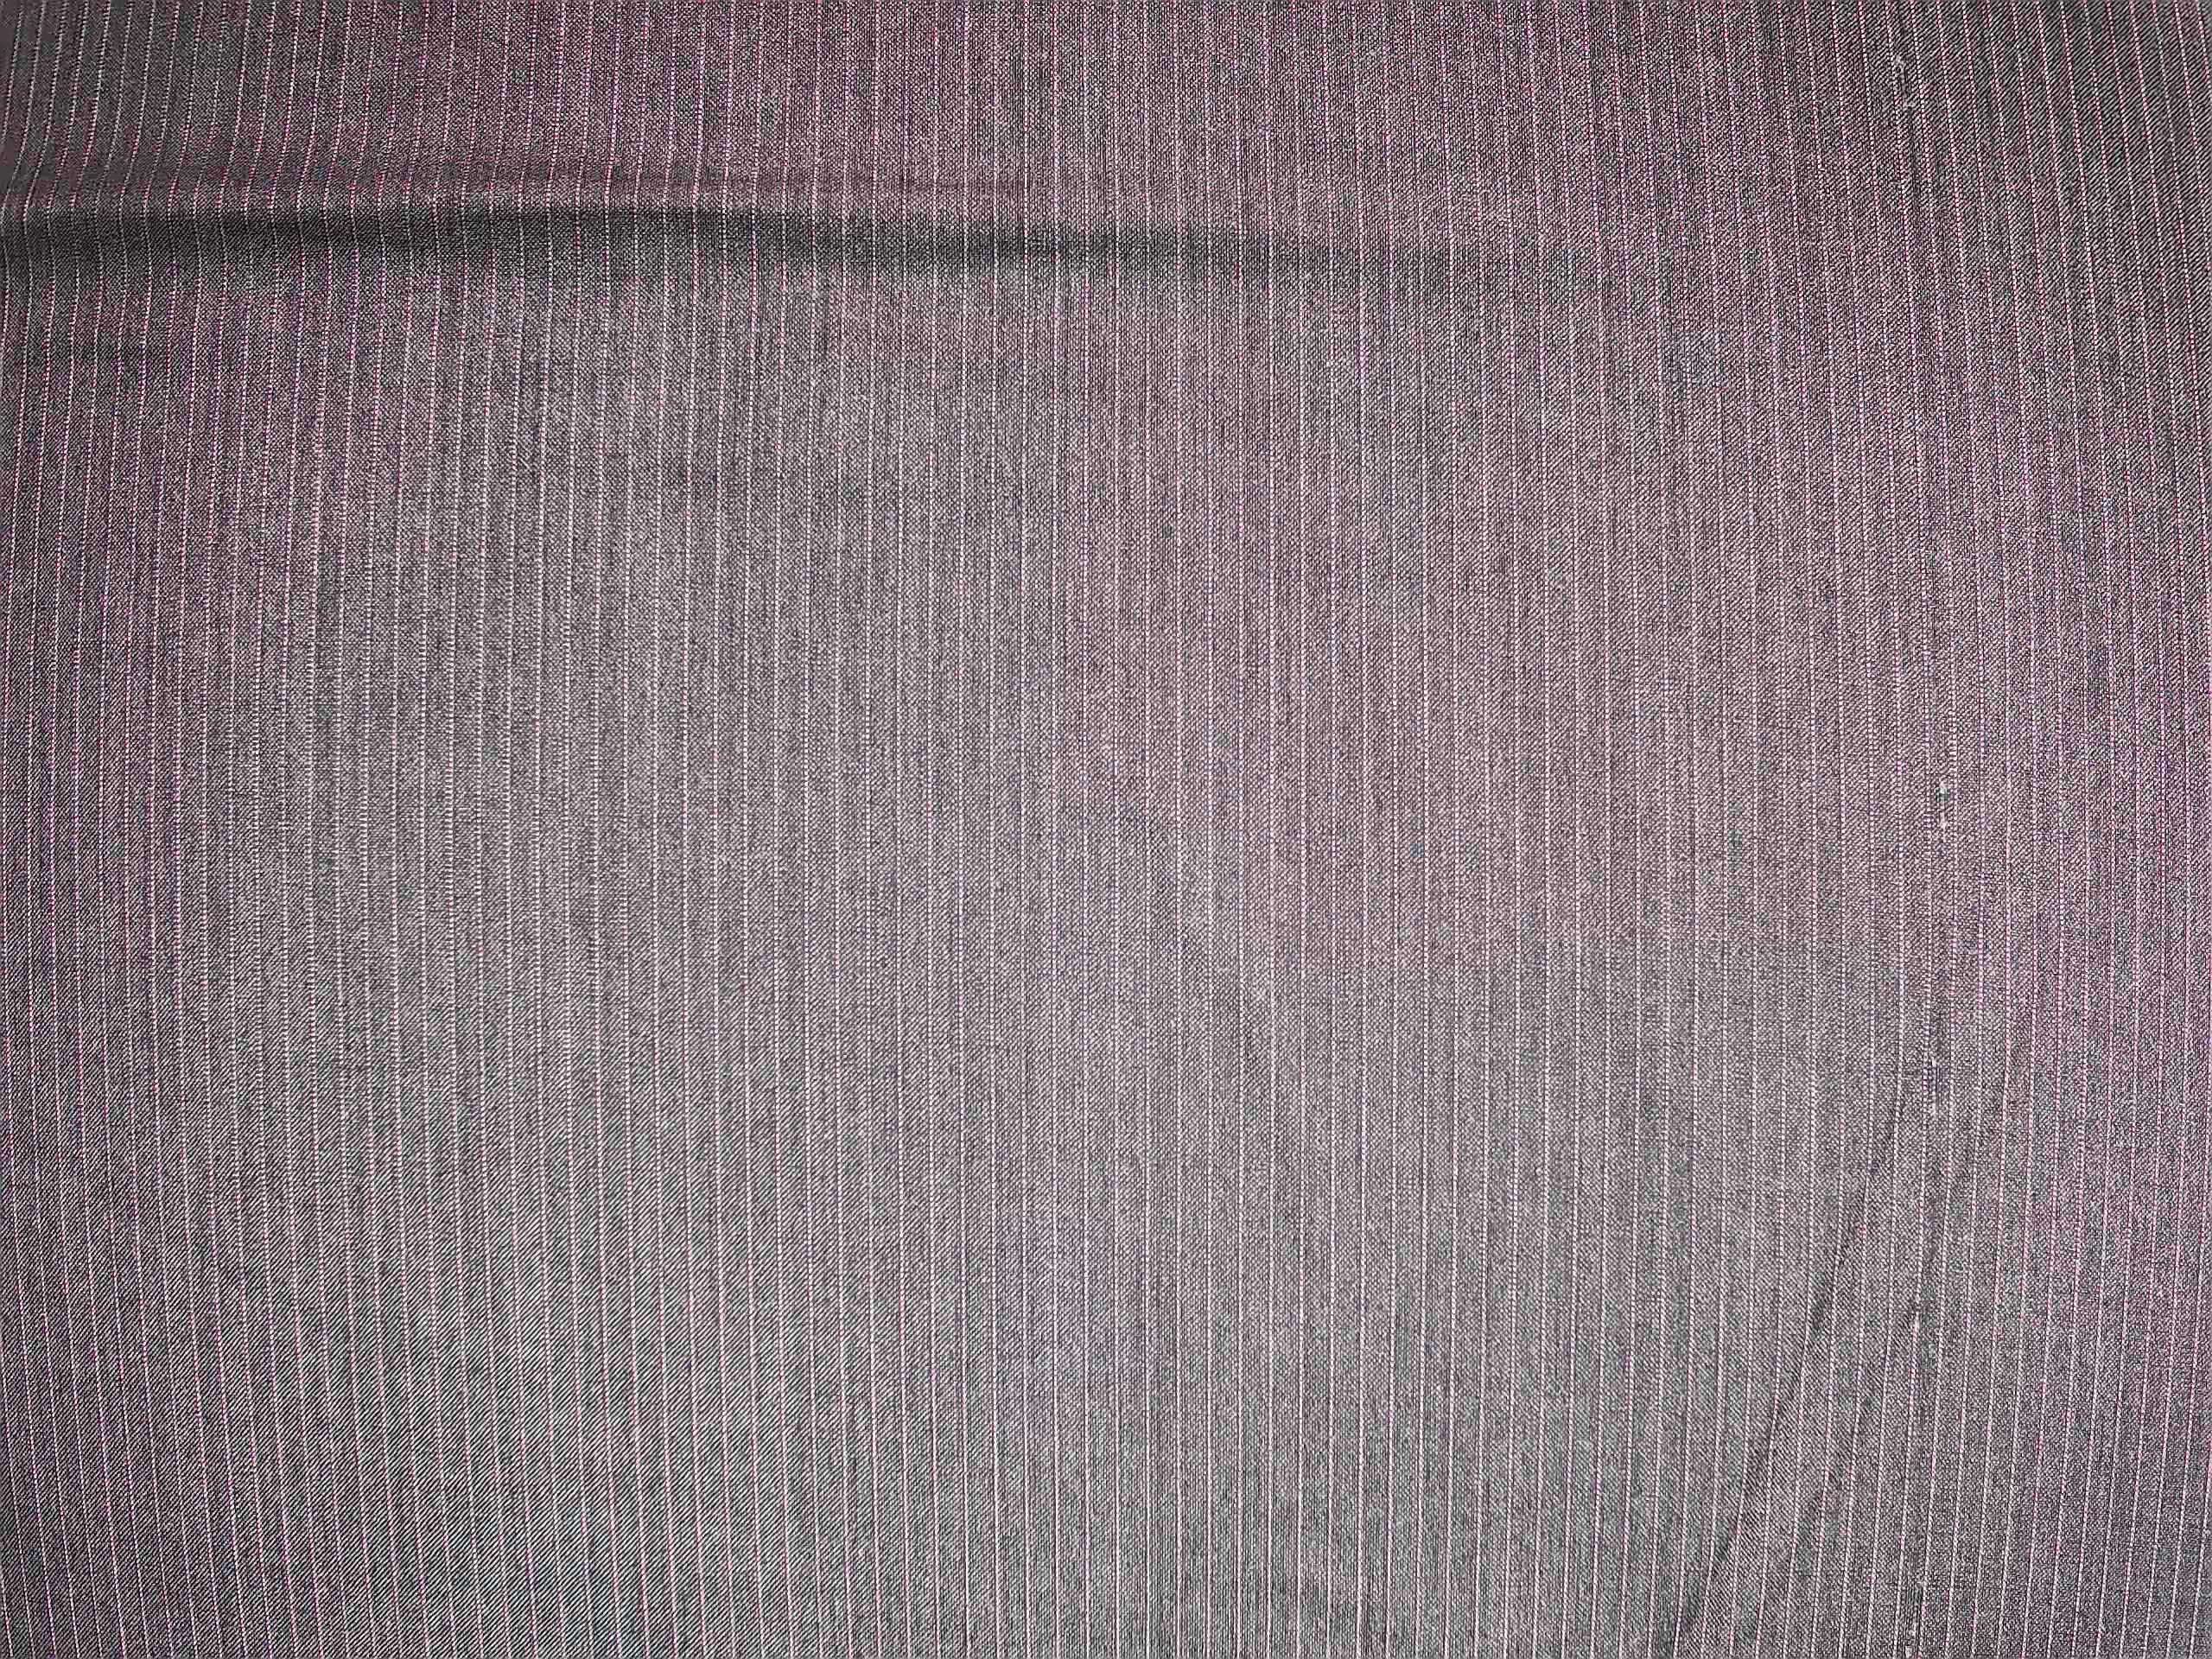hanging-warp: (1893, 12, 1972, 1476)
